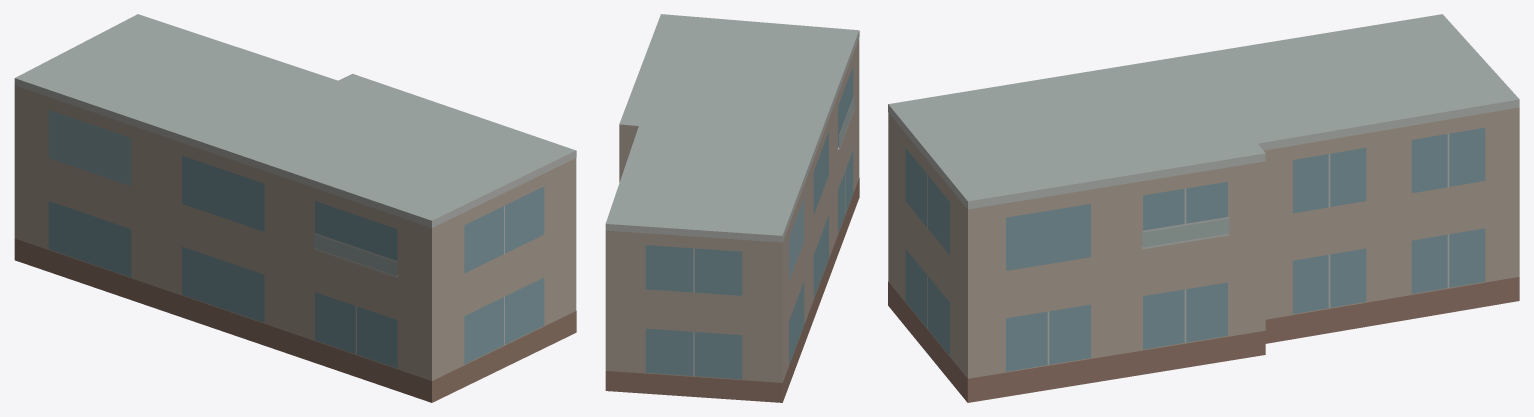
Rendered from survey-upis-33007621.glb.
3 views of the same model, side by side, from view 1: azimuth 30°, elevation 25°; view 2: azimuth 150°, elevation 25°; view 3: azimuth 270°, elevation 25° (orthographic). The views are drawn at different scales.
Parts seen in each view (by area): view 1: survey-upis-33007621.tmp; view 2: survey-upis-33007621.tmp; view 3: survey-upis-33007621.tmp.
Part boxes in pixels (x1,y1,x2,y2): survey-upis-33007621.tmp: (14, 14, 576, 402); survey-upis-33007621.tmp: (605, 14, 859, 402); survey-upis-33007621.tmp: (888, 14, 1519, 402).
Size of the model in its own units: 12.18 by 6.1 by 17.34.
